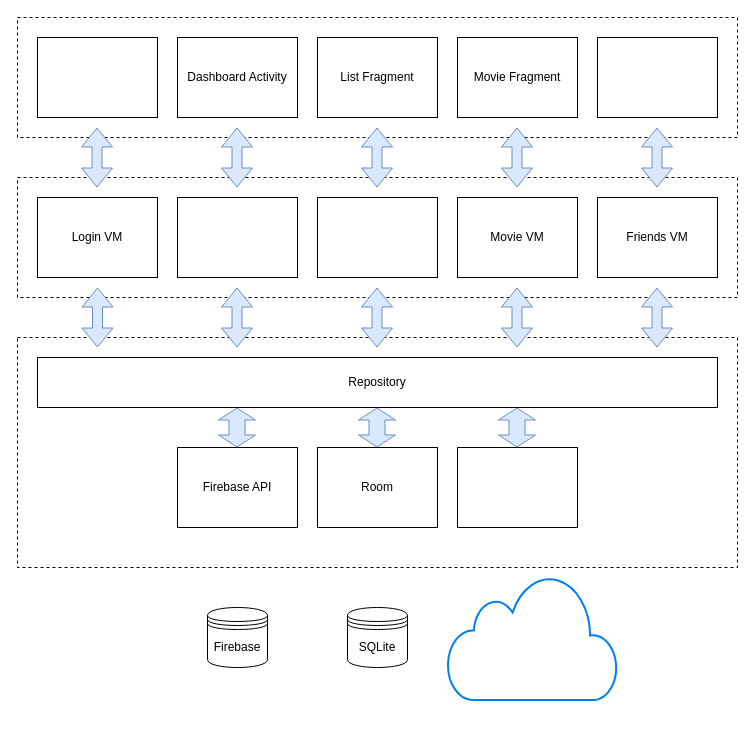
Some shapes in this 755 by 738 pixel diagram are drawn without their labels. The centre of each missing label's shape, as x and y in pixels:
"API/HTML scraper" belongs at [517,487].
"Dashboard VM" belongs at [237,237].
"Friends Fragment" belongs at [657,77].
"Internet" belongs at [532,637].
"List VM" belongs at [377,237].
"Login Activity" belongs at [97,77].
